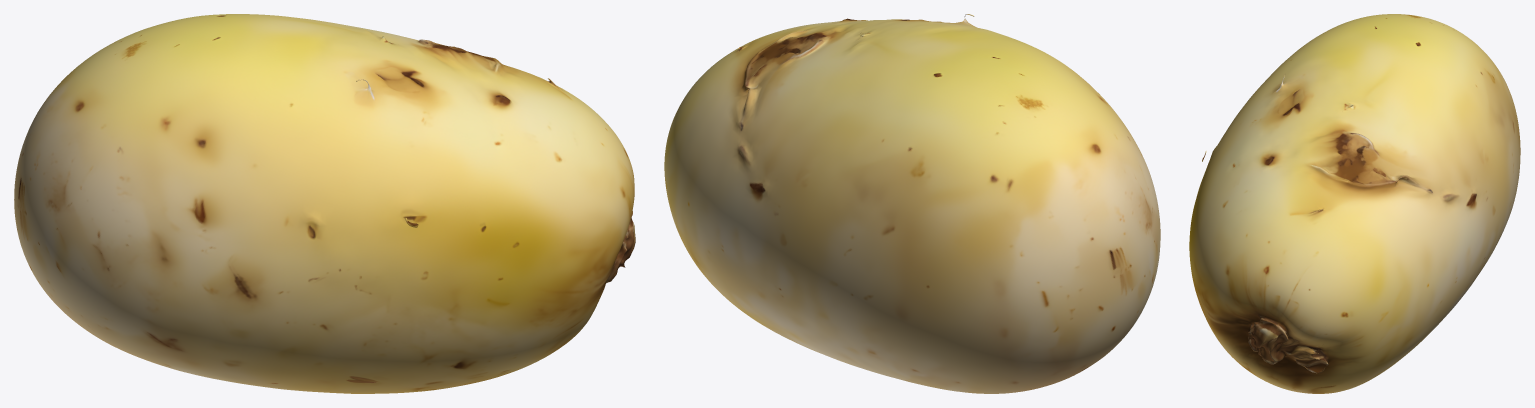
The picture shows the model from 3 angles, left to right: view 1: azimuth 30°, elevation 25°; view 2: azimuth 150°, elevation 25°; view 3: azimuth 270°, elevation 25°; orthographic projection. The views are drawn at different scales.
Visible parts, largest first — view 1: model; view 2: model; view 3: model.
Boxes of the visible parts, <box> form: model: <box>14,14,635,393</box>; model: <box>664,14,1160,393</box>; model: <box>1189,14,1520,393</box>.
Bounding box in the file's own units: 1.9 × 1.23 × 1.33.
1 material, 1 textured.
